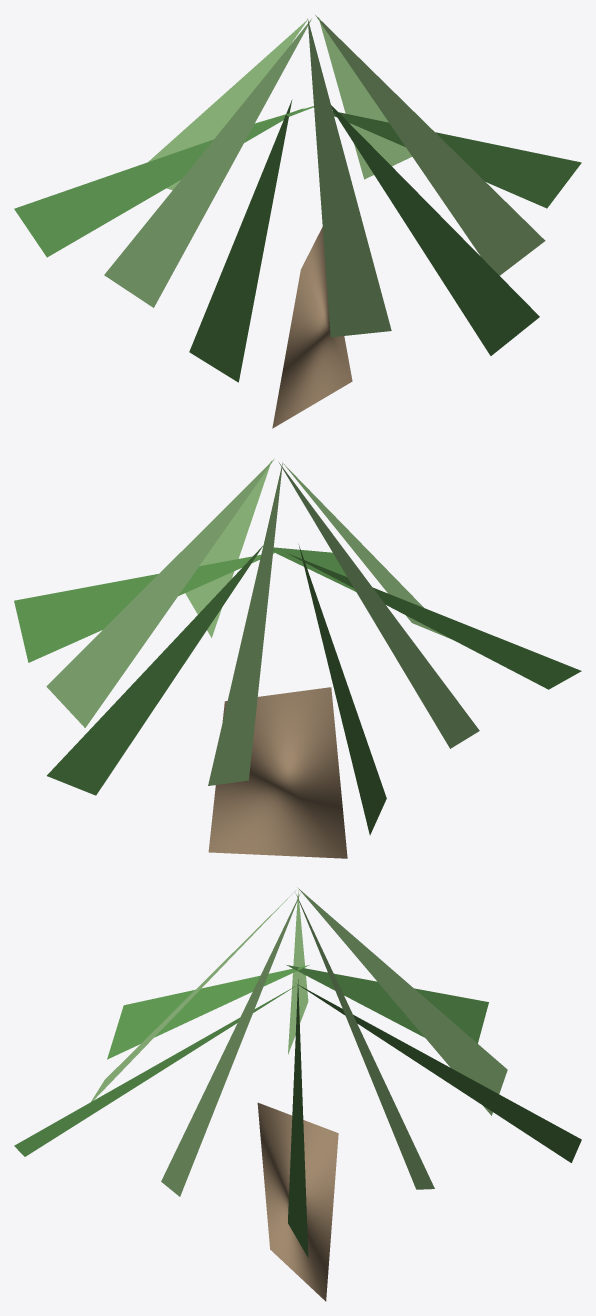
The model's file is prop_tree_desert_2_far.glb.
The picture shows the model from 3 angles, top to bottom: view 1: azimuth 30°, elevation 25°; view 2: azimuth 150°, elevation 25°; view 3: azimuth 270°, elevation 25°; orthographic projection. The views are drawn at different scales.
Visible parts, largest first — view 1: Spike9, Spike7, Spike5, Spike8, Spike6, Spike4, Stump, Spike0, Spike3, Spike1; view 2: Stump, Spike1, Spike2, Spike0, Spike3, Spike5, Spike6, Spike4, Spike9, Spike7, Spike8; view 3: Stump, Spike3, Spike6, Spike2, Spike9, Spike4, Spike1, Spike0, Spike8, Spike5, Spike7.
Boxes of the visible parts, x1,y1,x2,y2 form: Spike9: [315, 15, 545, 275]; Spike7: [307, 18, 391, 337]; Spike5: [104, 19, 311, 307]; Spike8: [331, 105, 539, 355]; Spike6: [189, 99, 292, 382]; Spike4: [14, 108, 303, 257]; Stump: [272, 227, 352, 428]; Spike0: [313, 107, 581, 208]; Spike3: [148, 20, 307, 190]; Spike1: [318, 17, 411, 179]; Stump: [208, 687, 347, 858]; Spike1: [46, 458, 274, 727]; Spike2: [47, 546, 262, 795]; Spike0: [14, 551, 277, 662]; Spike3: [208, 463, 282, 785]; Spike5: [279, 463, 479, 748]; Spike6: [287, 553, 581, 689]; Spike4: [298, 544, 386, 835]; Spike9: [185, 460, 271, 637]; Spike7: [282, 462, 452, 639]; Spike8: [262, 546, 355, 591]; Stump: [257, 1102, 338, 1301]; Spike3: [297, 887, 507, 1115]; Spike6: [107, 965, 309, 1059]; Spike2: [297, 984, 581, 1162]; Spike9: [161, 893, 300, 1196]; Spike4: [286, 965, 488, 1043]; Spike1: [295, 893, 434, 1189]; Spike0: [288, 979, 308, 1257]; Spike8: [14, 985, 297, 1156]; Spike5: [288, 890, 308, 1054]; Spike7: [91, 890, 295, 1101].
Size of the model in its own units: 2.82 by 2.21 by 2.93.
